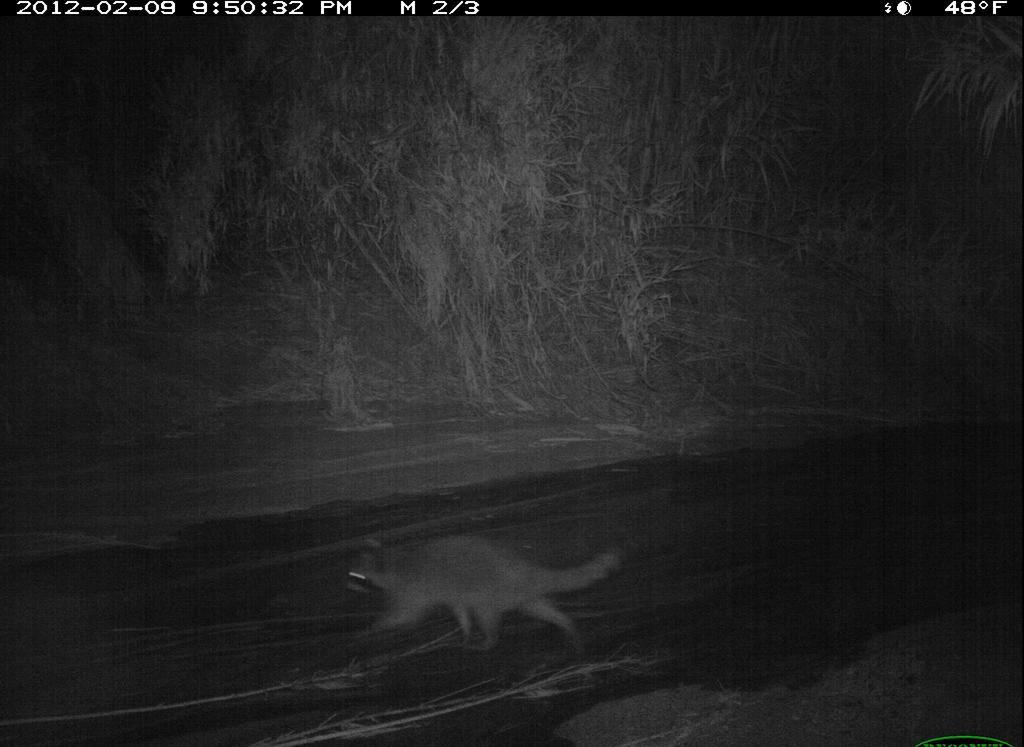raccoon: (318, 507, 679, 670)
